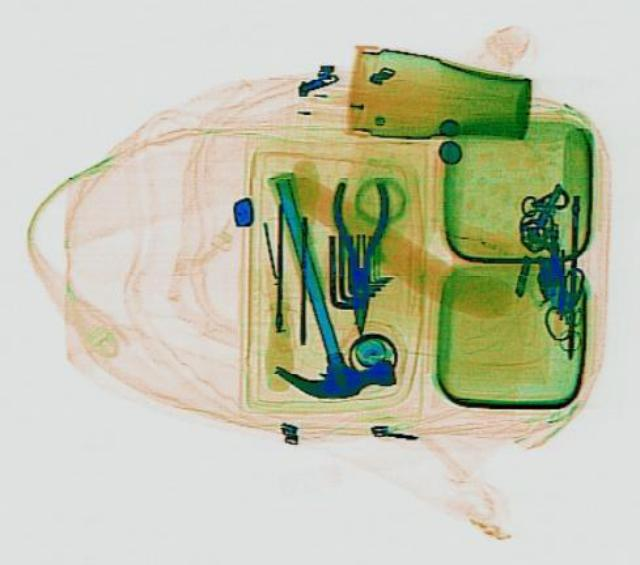Pliers: (330, 179, 388, 330)
